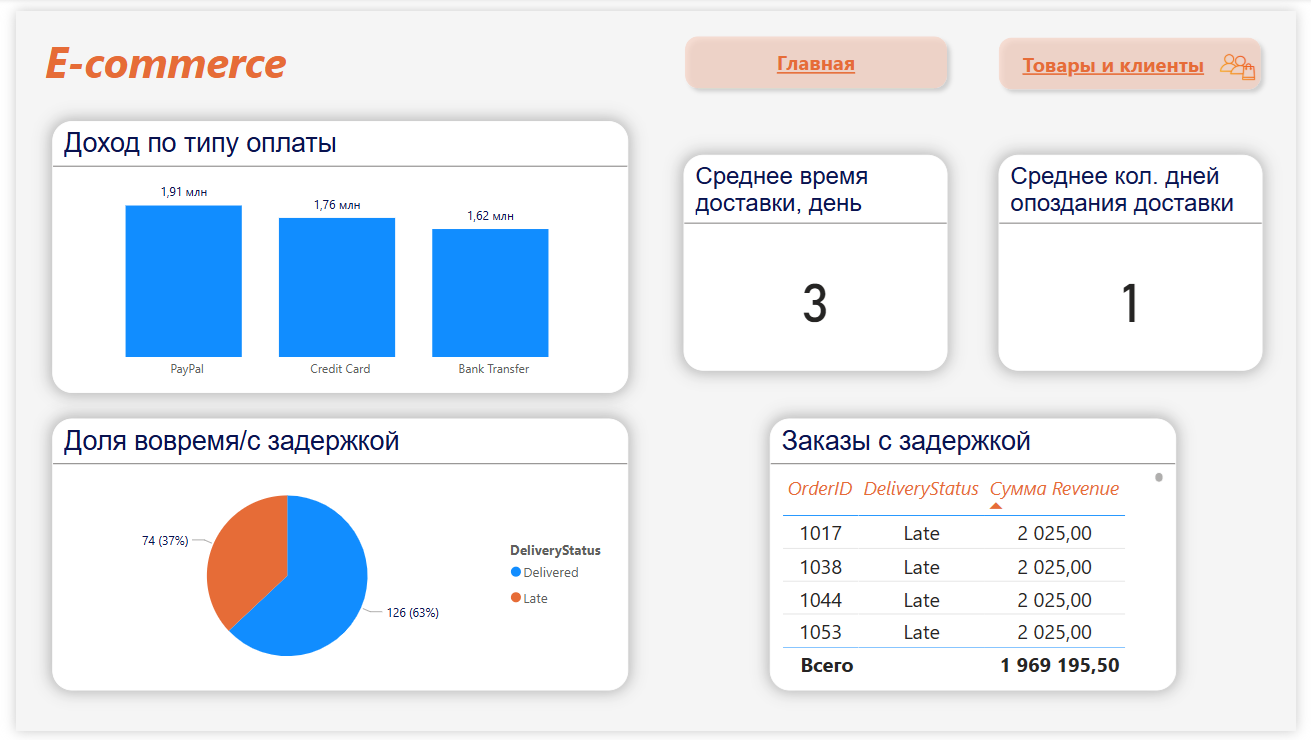

This screenshot's page, from the dashboard's own definition file:
{"tool":"powerbi","page":{"name":"Доставка и финансы","canvas":[1280,720],"ordinal":2},"visuals":[{"type":"tableEx","title":"Заказы с задержкой","fields":{"Values":["orders.OrderID","logistics.DeliveryStatus","Sum(orders.Revenue)"]},"box":[754,408,406,272],"z":0},{"type":"shape","box":[974,18,280,70],"z":1000},{"type":"textbox","box":[24.3,15.7,260,70],"z":2000},{"type":"shape","box":[660,16,280,70],"z":3000},{"type":"columnChart","title":"Доход по типу оплаты","fields":{"Category":["payments.PaymentType"],"Y":["orders.Total Revenue"]},"box":[36,110,576,272],"z":4000},{"type":"card","title":"Среднее время доставки, день","fields":{"Values":["logistics.Average Delivery Days"]},"box":[668,144,264,216],"z":5000},{"type":"pieChart","title":"Доля вовремя/с задержкой","fields":{"Category":["logistics.DeliveryStatus"],"Y":["CountNonNull(logistics.DeliveryStatus)"]},"box":[36,408,576,272],"z":6000},{"type":"card","title":"Среднее кол. дней опоздания доставки","fields":{"Values":["logistics.Average Late Days"]},"box":[982,144,264,216],"z":7000},{"type":"image","box":[1198.9,32.2,45.6,46.7],"z":7001}]}

Visuals, with their boxes in screenshot pixels (x1, y1, x2, y2), scaled from the page's 1280x720 canvas onto the 1311x740 screenshot:
"Заказы с задержкой" tableEx: l=772, t=419, r=1188, b=699
shape: l=998, t=18, r=1284, b=90
textbox: l=25, t=16, r=291, b=88
shape: l=676, t=16, r=963, b=88
"Доход по типу оплаты" columnChart: l=37, t=113, r=627, b=393
"Среднее время доставки, день" card: l=684, t=148, r=955, b=370
"Доля вовремя/с задержкой" pieChart: l=37, t=419, r=627, b=699
"Среднее кол. дней опоздания доставки" card: l=1006, t=148, r=1276, b=370
image: l=1228, t=33, r=1275, b=81
